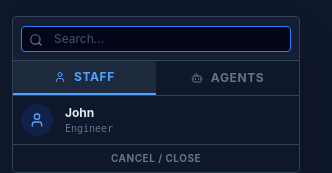
OwnerPicker › filters by tab
The image size is (332, 173).
(page scrolled)
Expected: the text "John" is shown, [65,104,94,120]
Expected: the text "OptimizerBot" is not shown
# Switch to Agents
Click the button "Agents": (228, 78) [156,61,299,95]
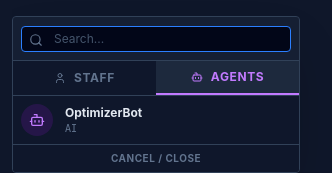
Expected: the text "OptimizerBot" is shown, [65,104,142,120]
Expected: the button "John" is gone
